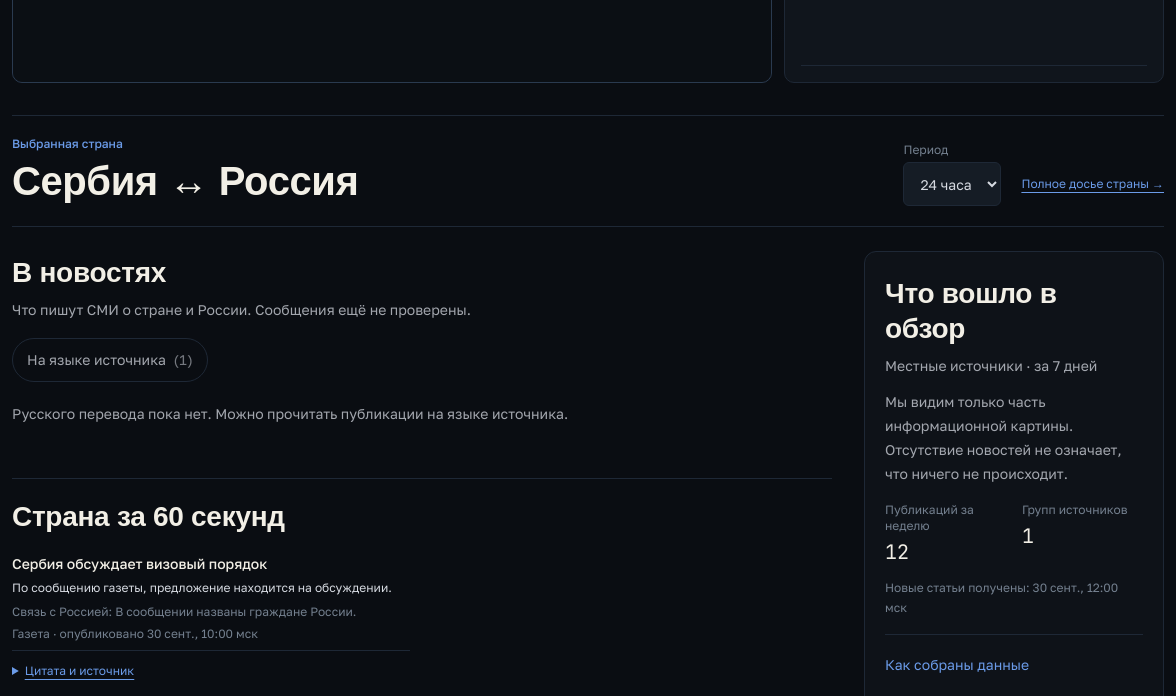
Test: DecisionWorkspace › resets the source-language choice after changing country
The image size is (1176, 696).
(page scrolled)
Click the button "На языке источника (1)".
click(110, 360)  # box x1=12 y1=338 x2=208 y2=382
(page scrolled)
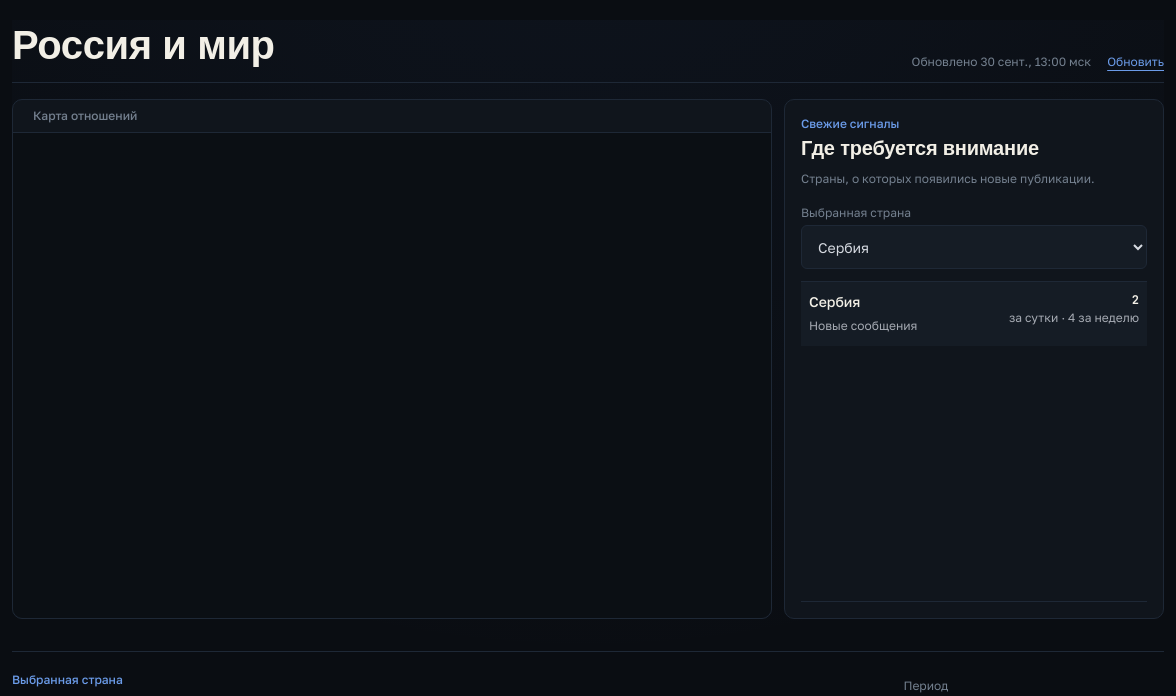
Select "ОАЭ" in the dropdown labelled "Выбранная страна" at {"x": 974, "y": 247}, box x1=801 y1=225 x2=1147 y2=269
(page scrolled)
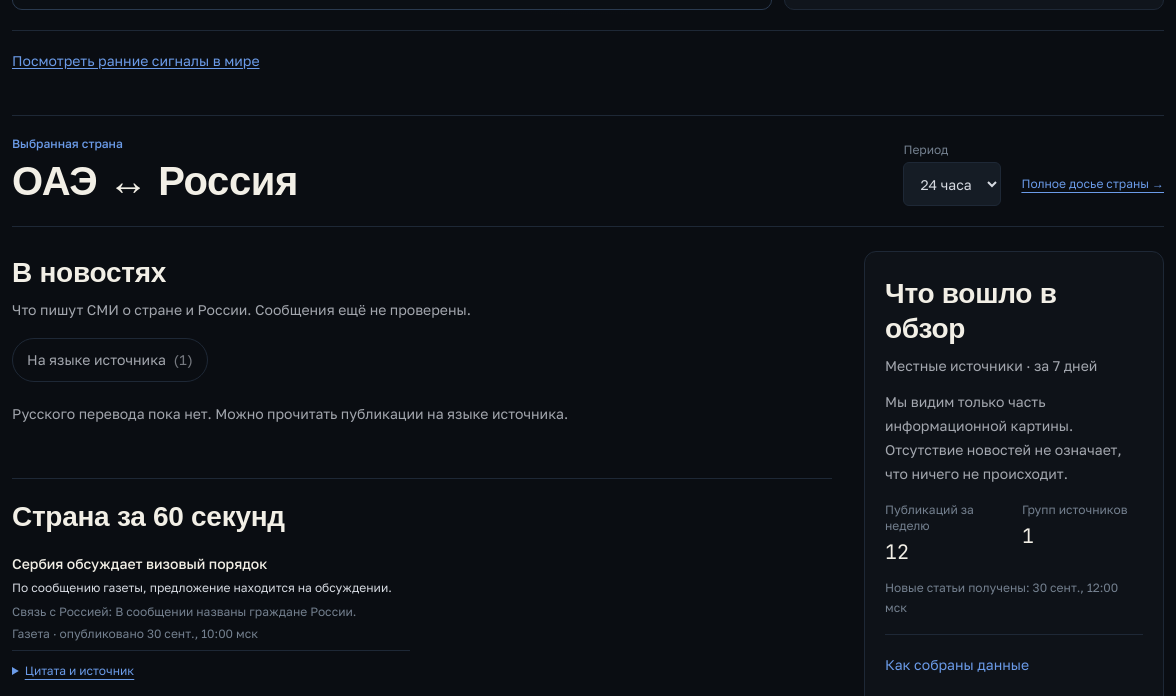
expect the heading "ОАЭ ↔ Россия" is shown: met, box x1=12 y1=156 x2=298 y2=206
Click the button "На языке источника (1)".
click(110, 360)  # box x1=12 y1=338 x2=208 y2=382
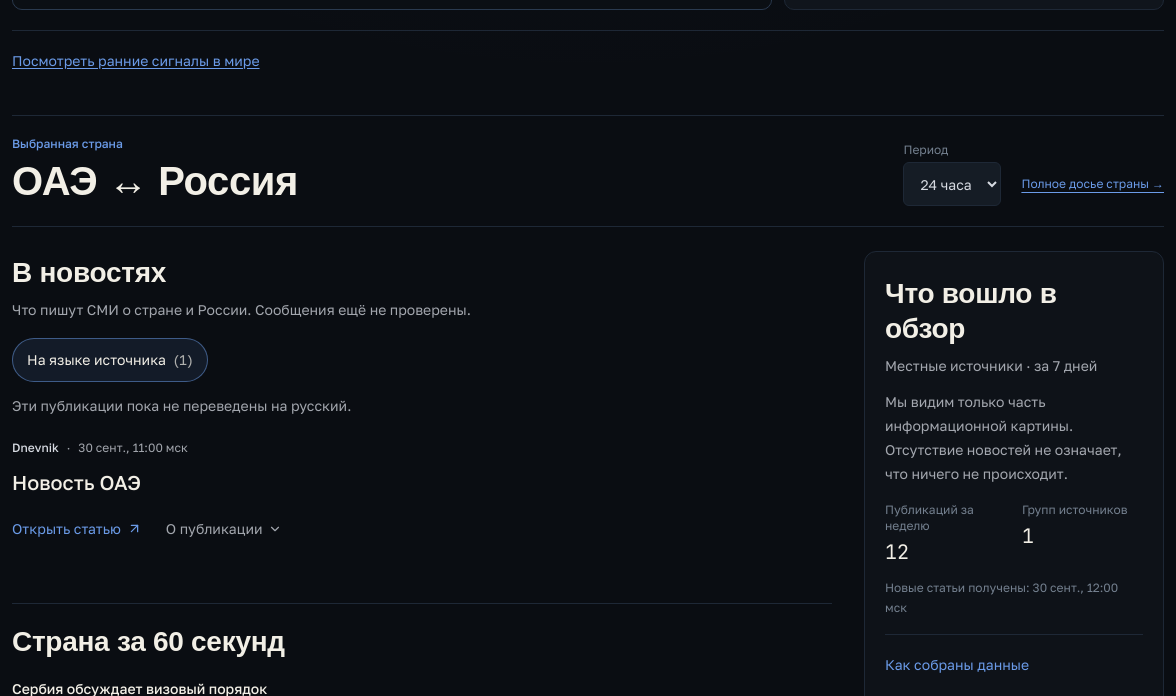
expect the heading "Новость ОАЭ" is shown: met, box x1=12 y1=470 x2=141 y2=494
